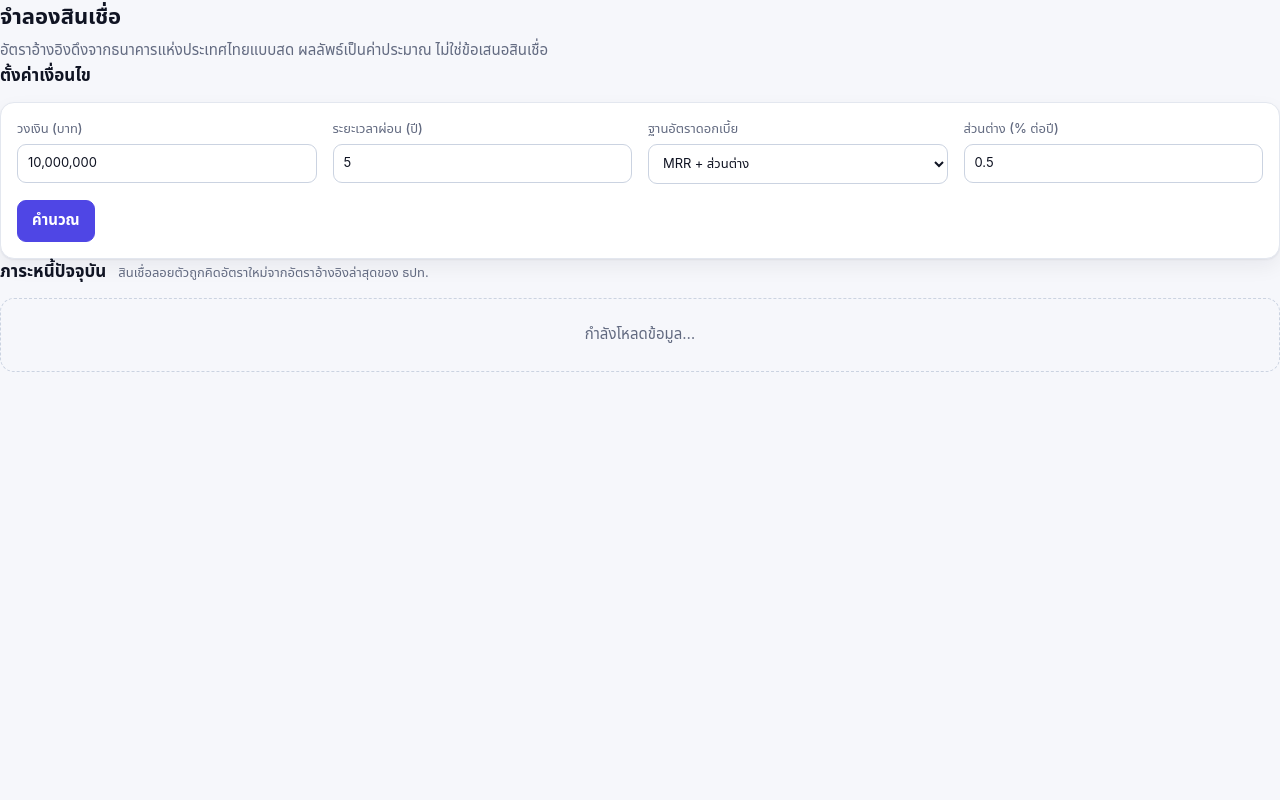
ตารางผ่อนชำระ › แสดงครบทุกงวด ไม่ใช่แค่งวดแรก ๆ
Click the button "คำนวณ" at (56, 221), box [17, 200, 95, 242]
(page scrolled)
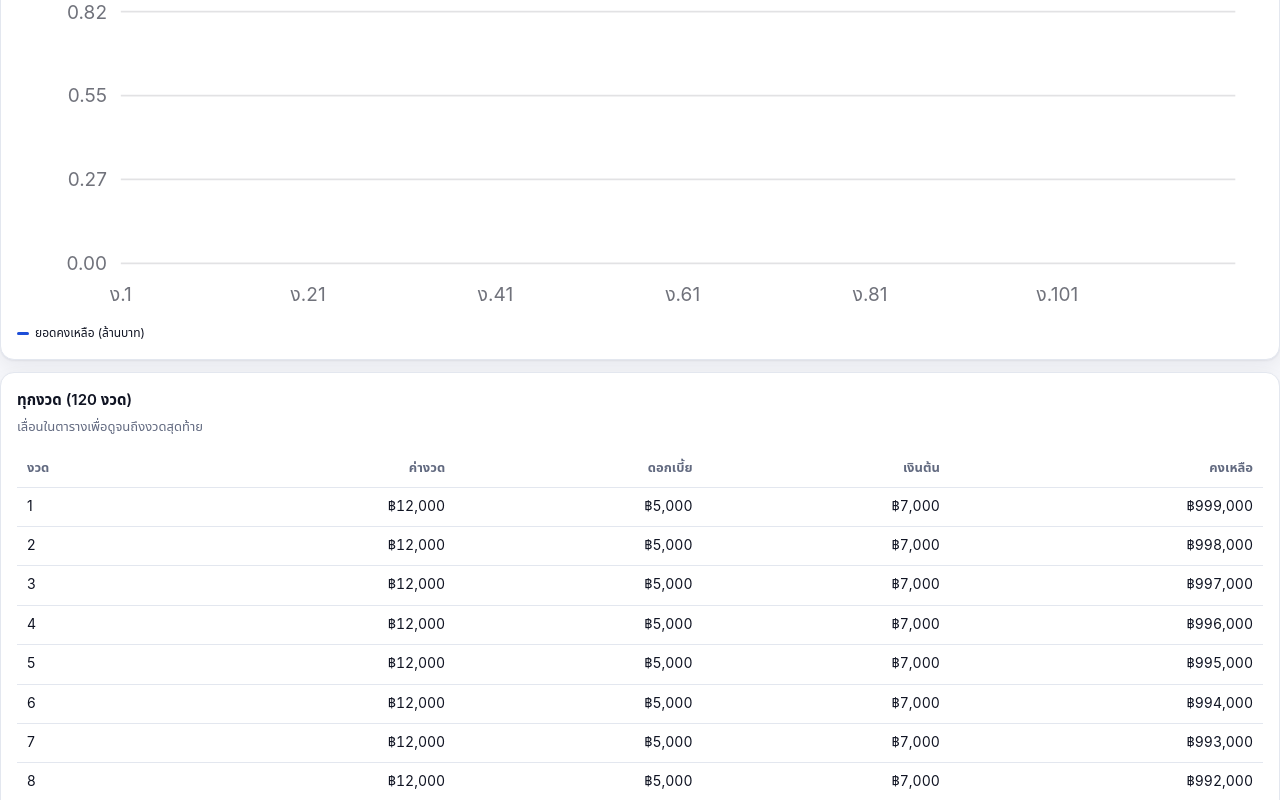
Now the heading "ทุกงวด (120 งวด)" is shown, box [17, 389, 132, 412]
